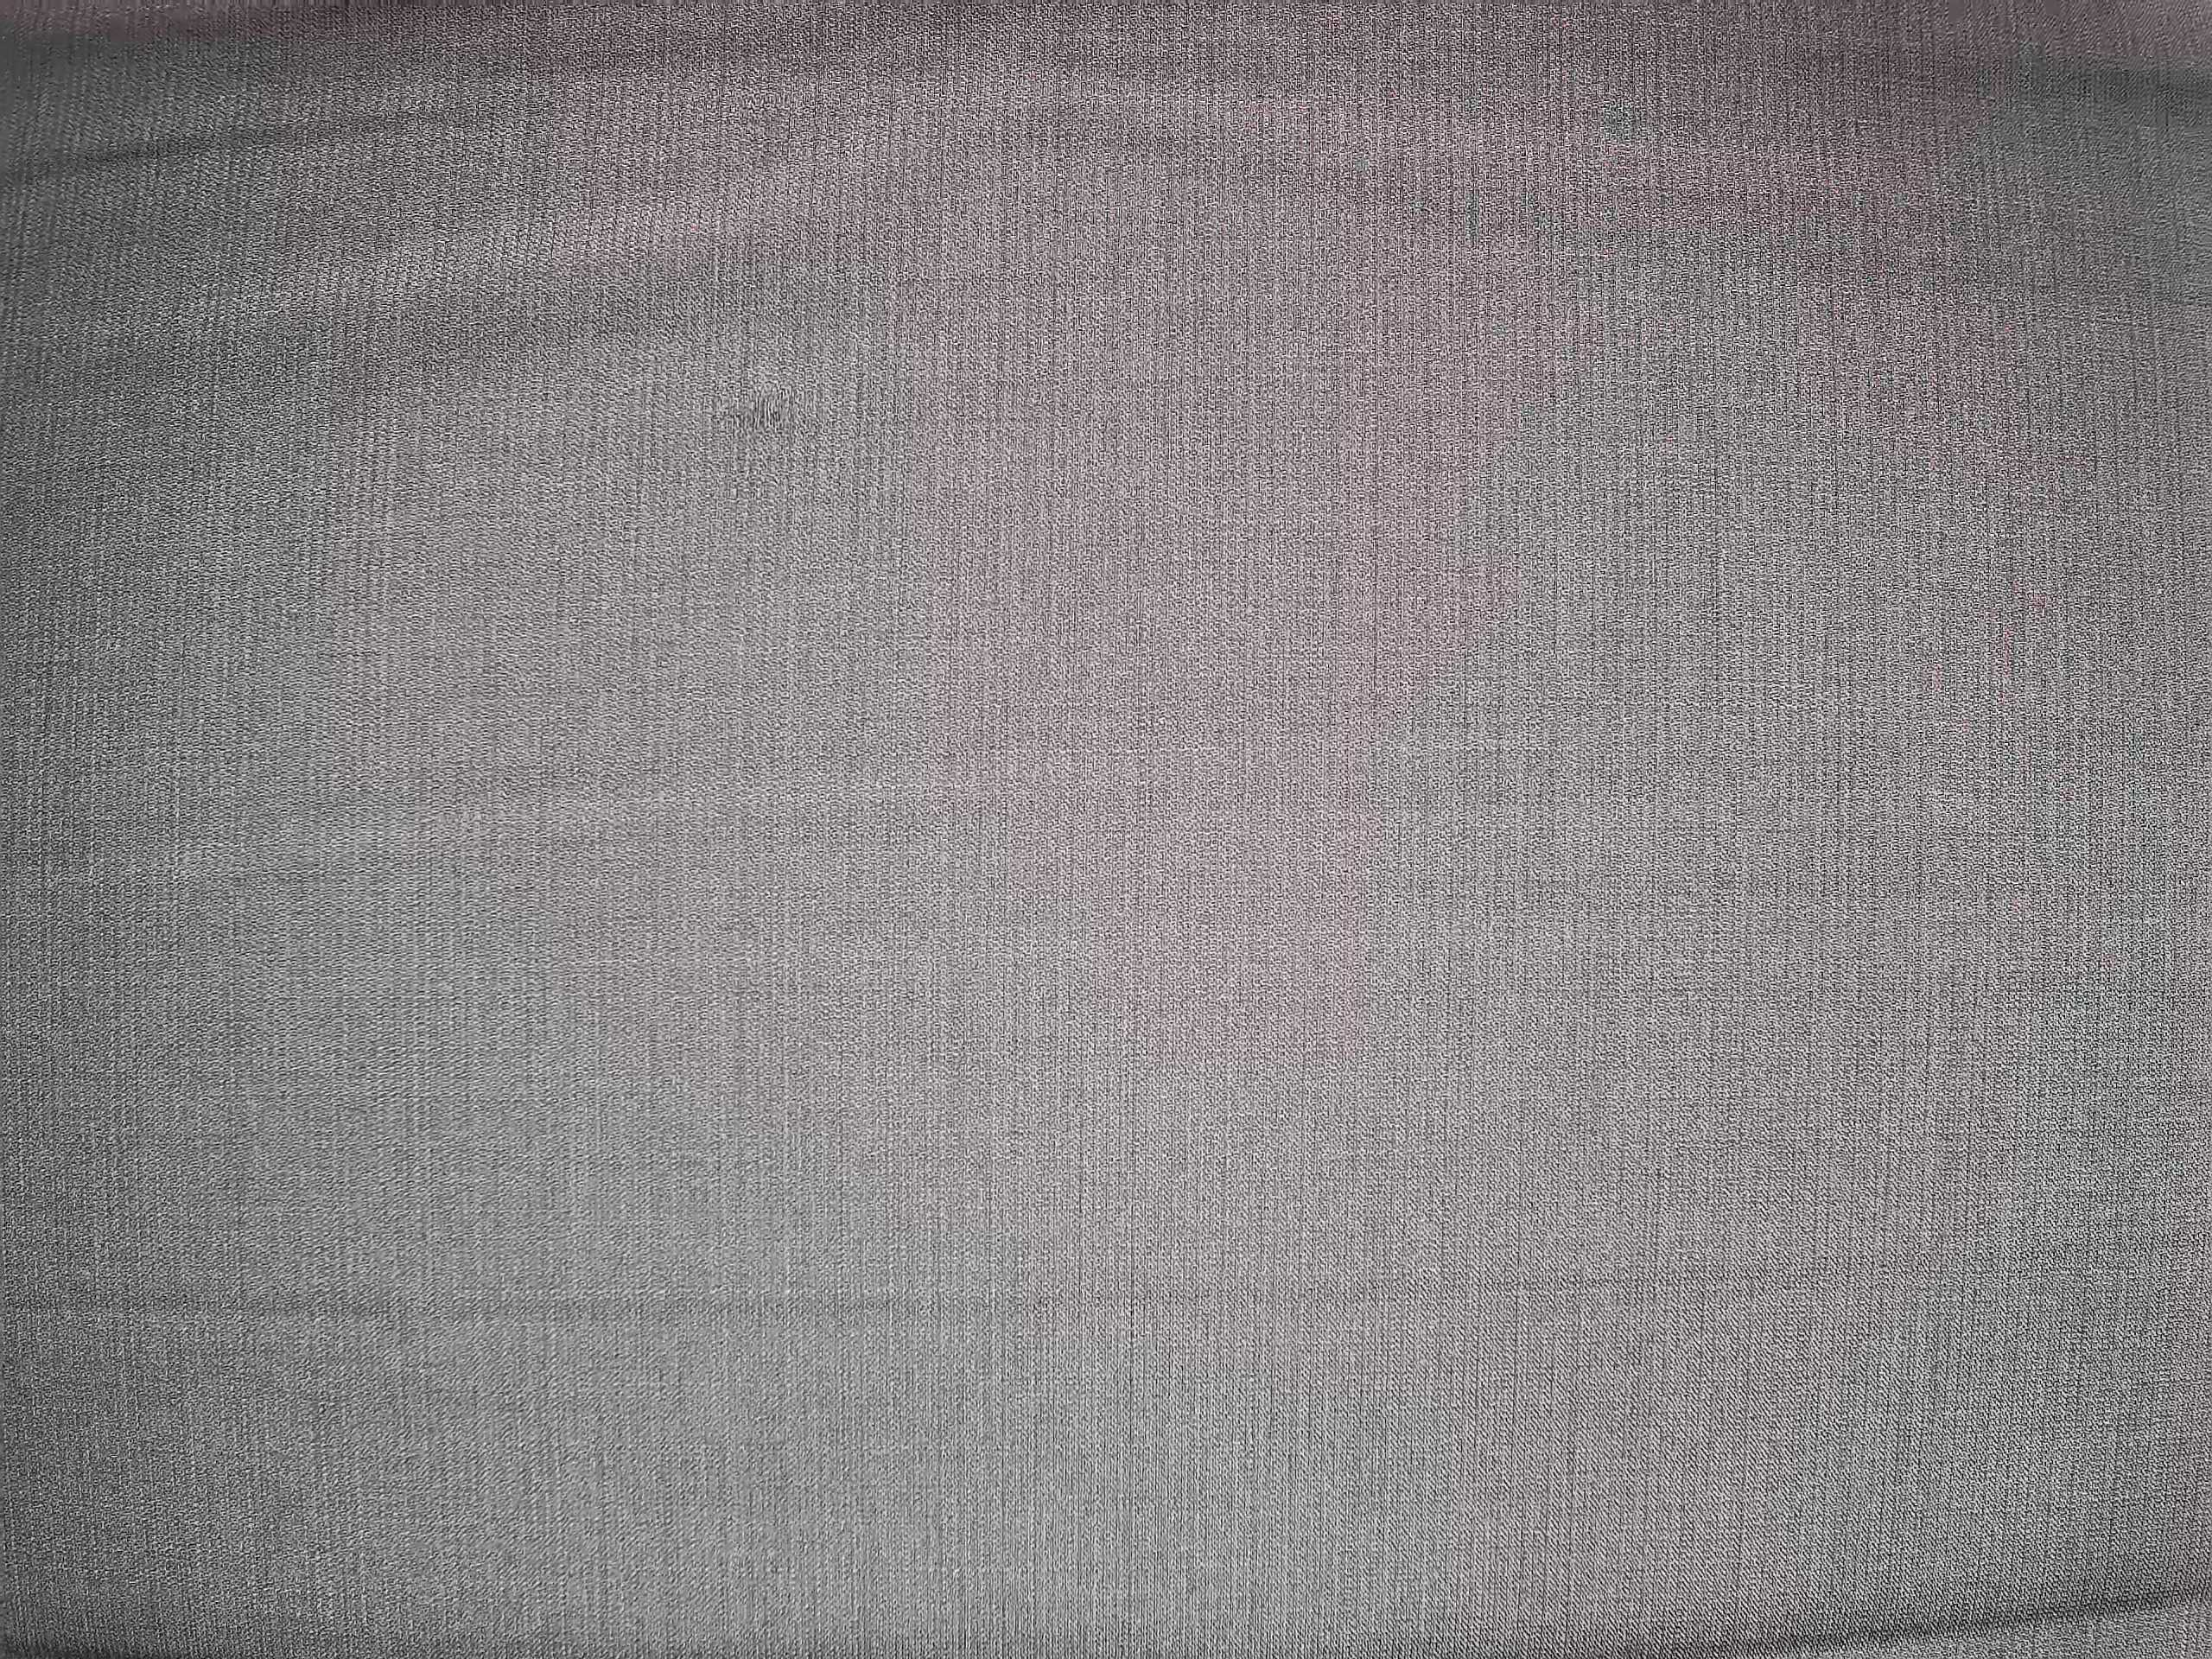brushed-hole: (709, 373, 799, 453)
